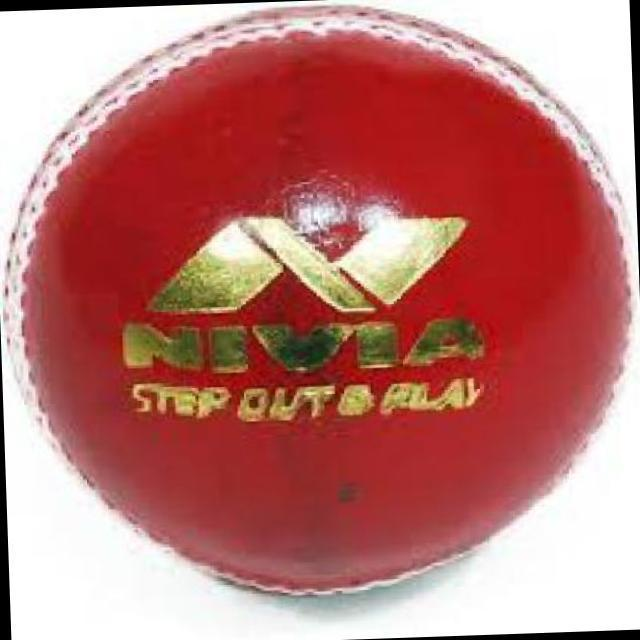-: (3, 0, 632, 590)
